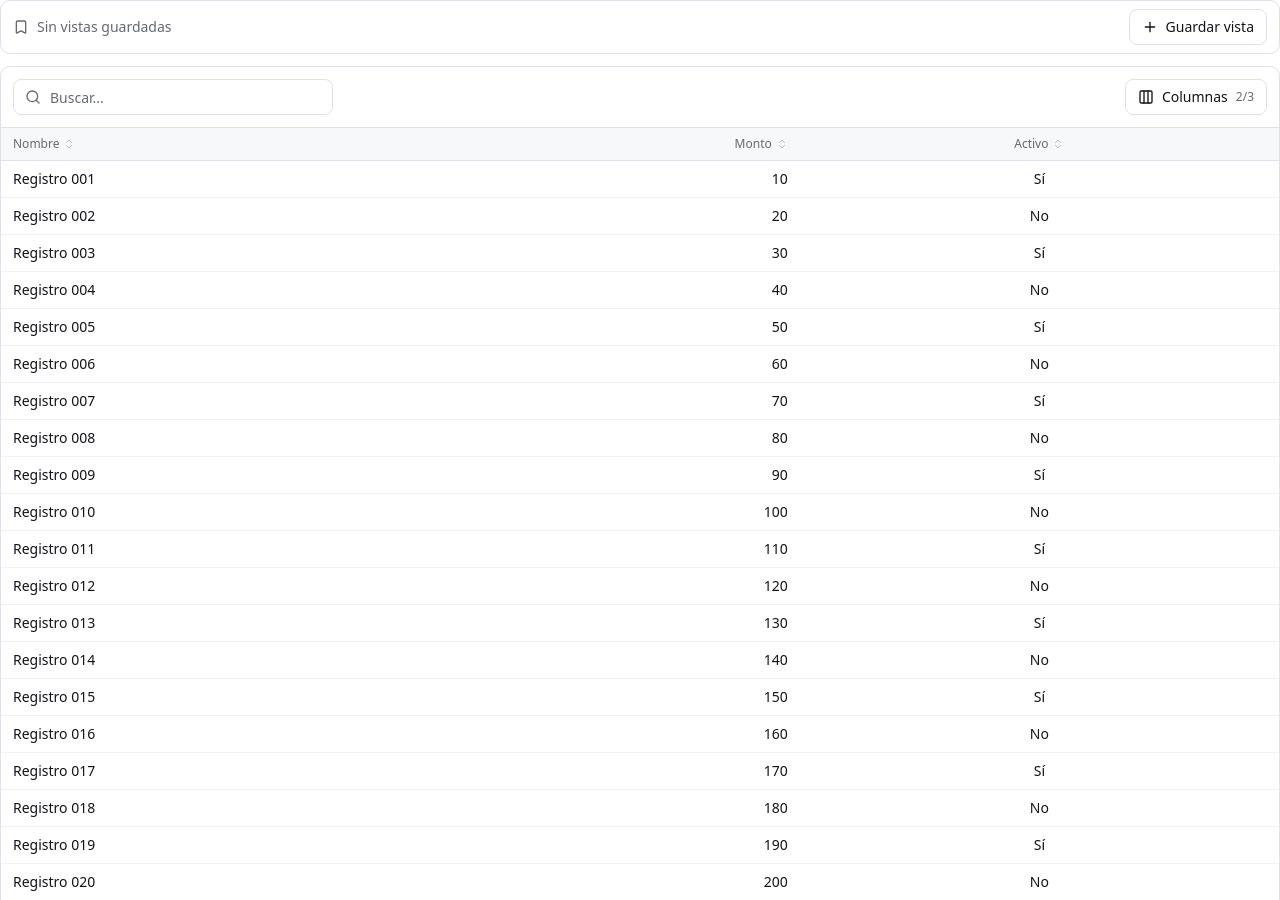
Test: ViewsBar › elimina una vista
Click the button "Guardar vista" at x=1198, y=27, box [1129,9,1267,45]
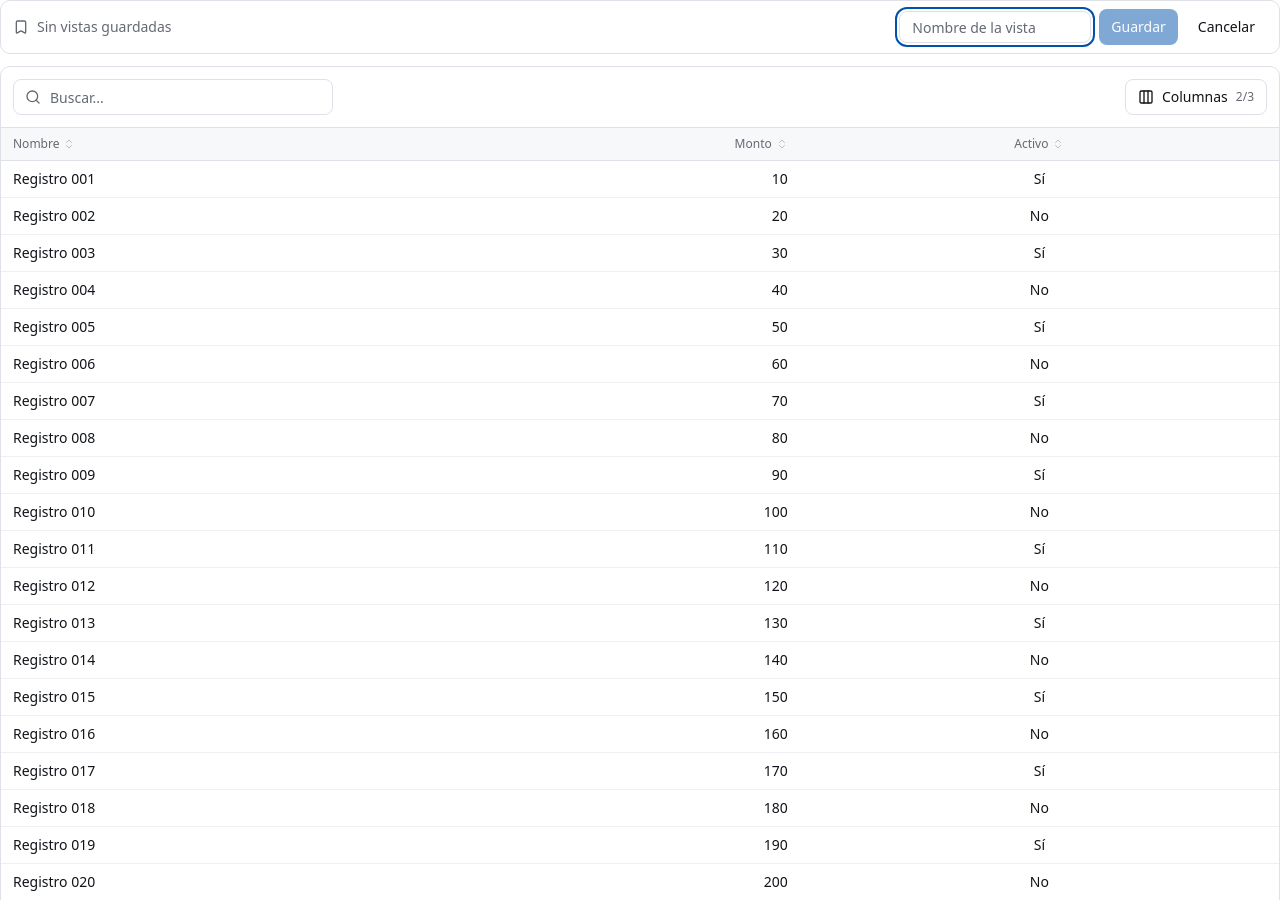
Type "Temporal" into the field labelled "Nombre de la vista" at x=995, y=27, box [899,11,1091,43]
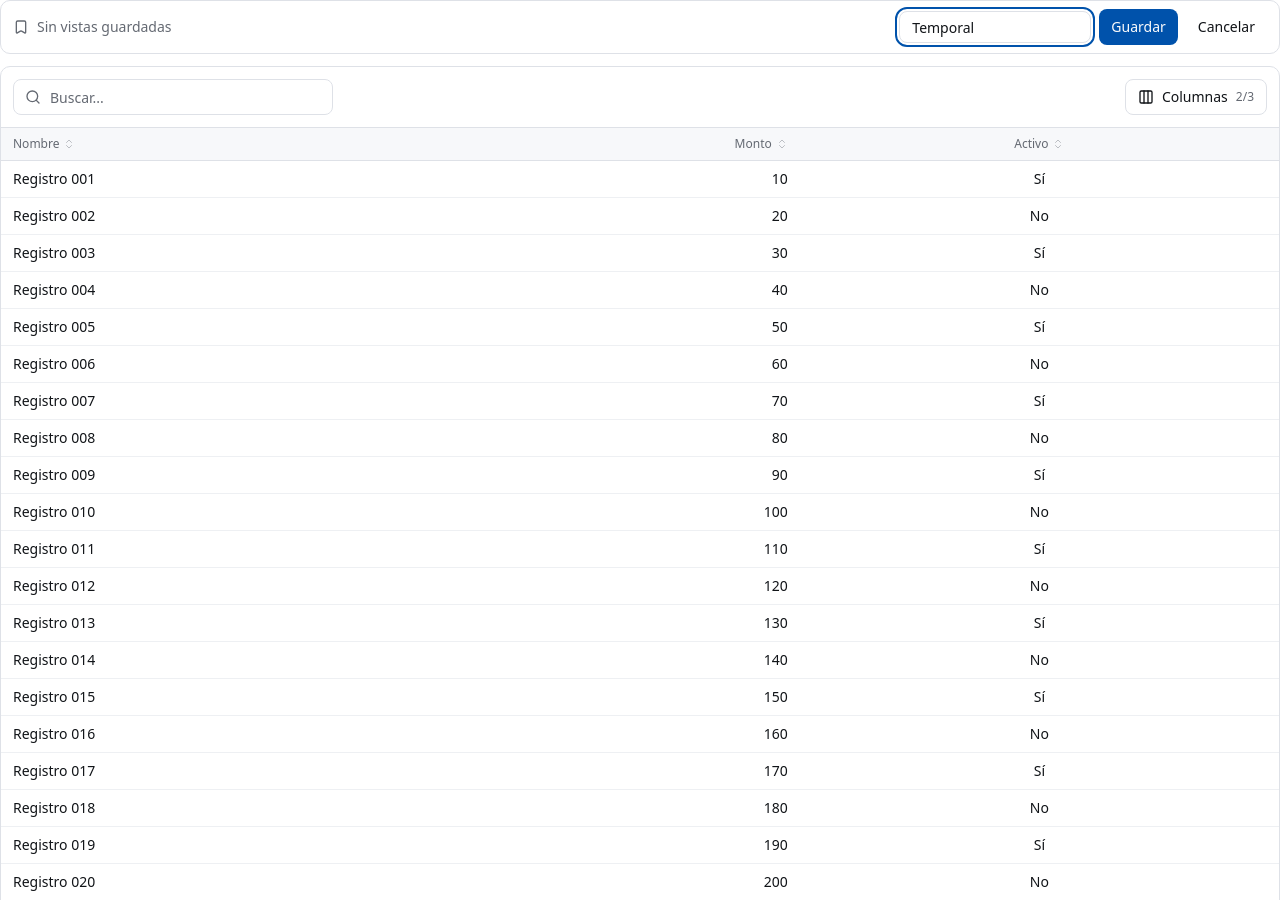
Click the button "Guardar" at x=1139, y=27, box [1099,9,1178,45]
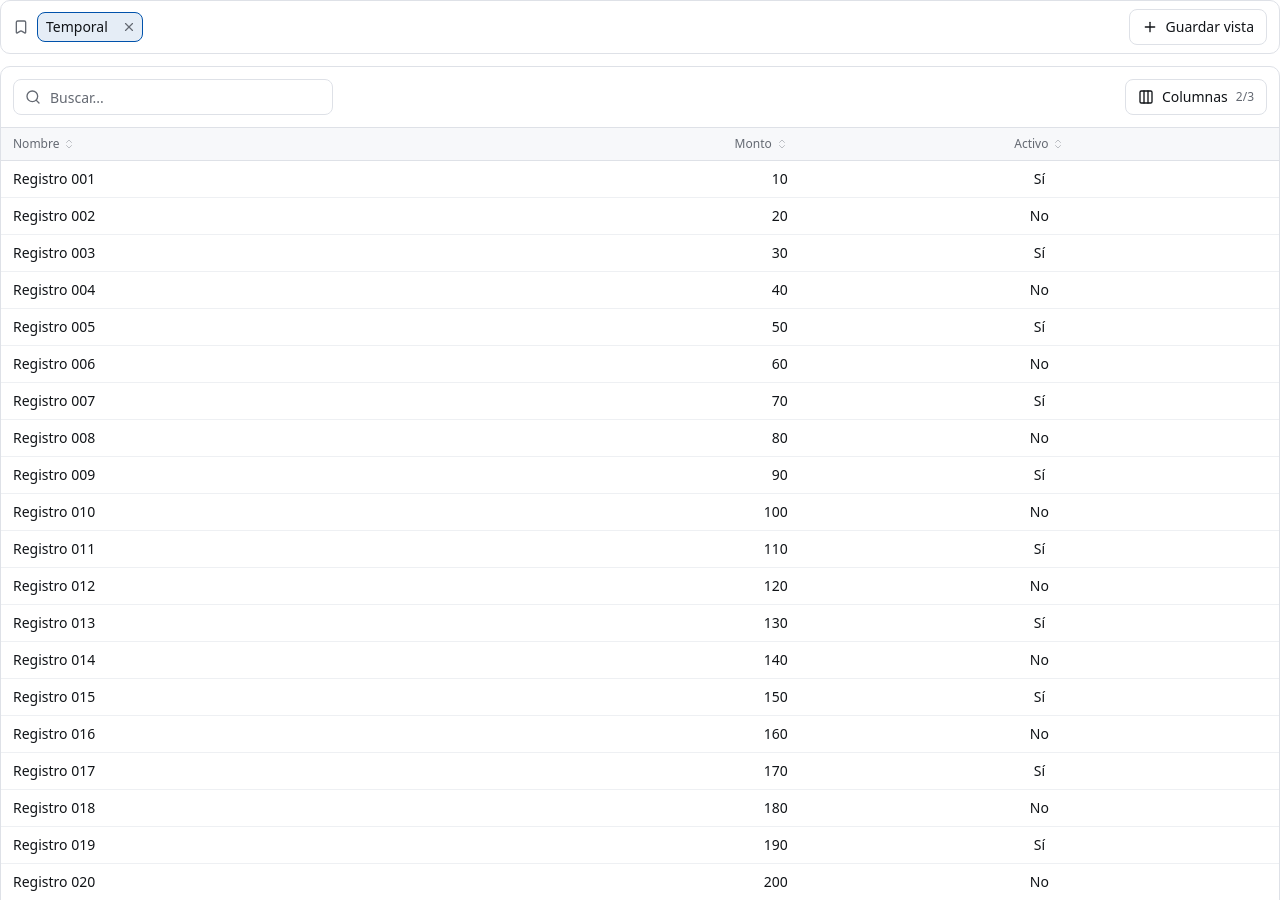
Click the button named "Eliminar la vista Temporal" at x=129, y=27, box [116,16,142,38]
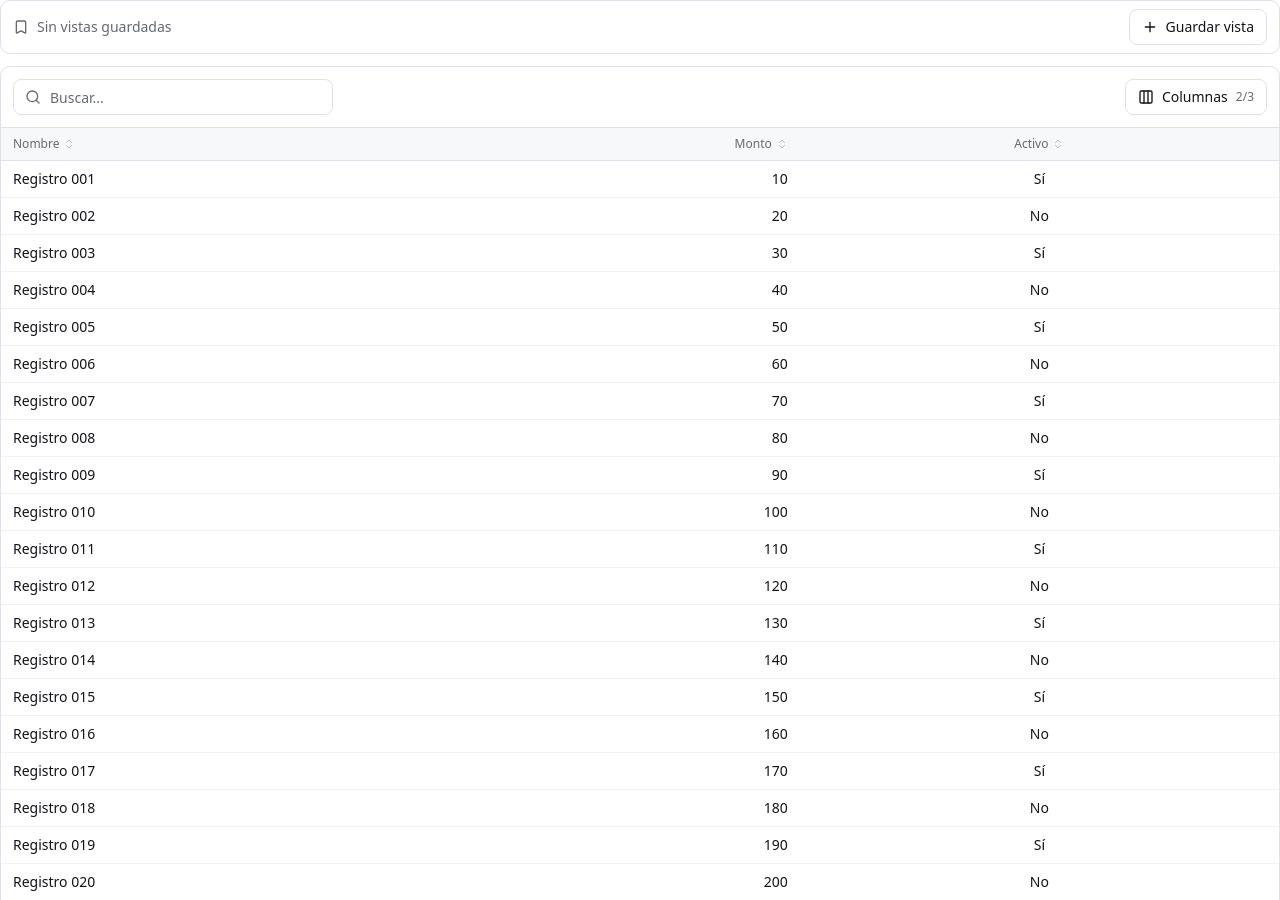
Expected: the button "Temporal" is gone
